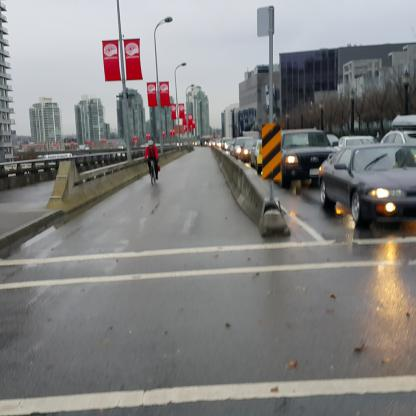Car: (219, 126, 416, 226)
